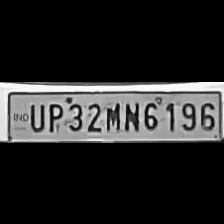1: (161, 98, 177, 132)
2: (84, 98, 103, 132)
3: (64, 98, 82, 132)
6: (140, 97, 160, 130), (197, 98, 217, 130)
9: (178, 98, 196, 130)
M: (104, 98, 120, 132)
N: (122, 98, 140, 132)
P: (46, 100, 62, 132)
U: (26, 99, 44, 131)
